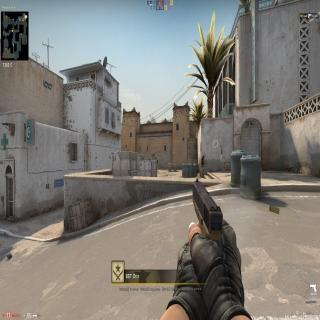CT-Head: (155, 156, 157, 160)
